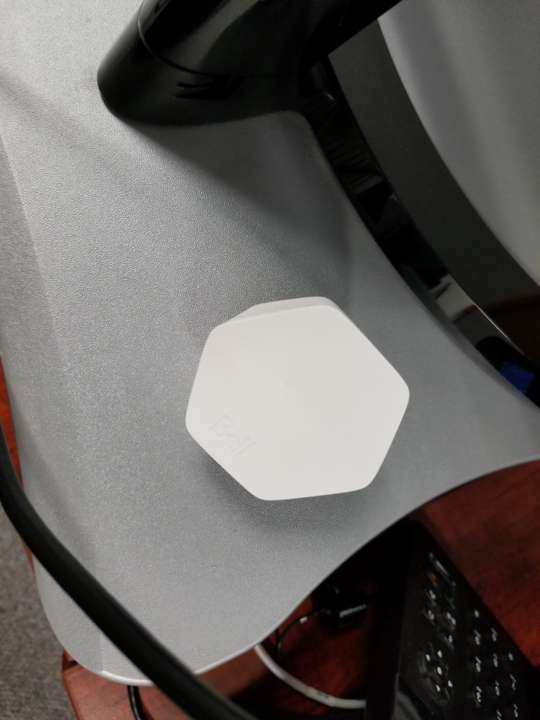pod: (181, 292, 416, 509)
